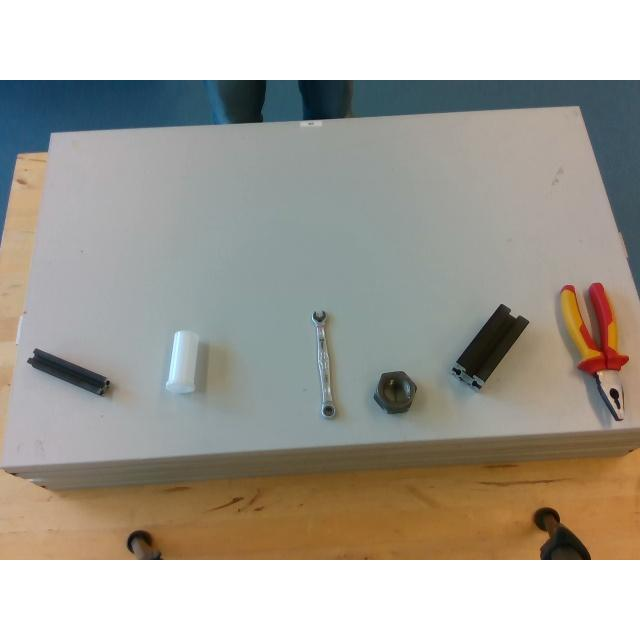F20_20_B: (26, 348, 110, 394)
M30: (374, 370, 416, 412)
S40_40_B: (452, 304, 528, 388)
Spacer: (166, 330, 198, 390)
Wrench: (312, 310, 336, 416)
